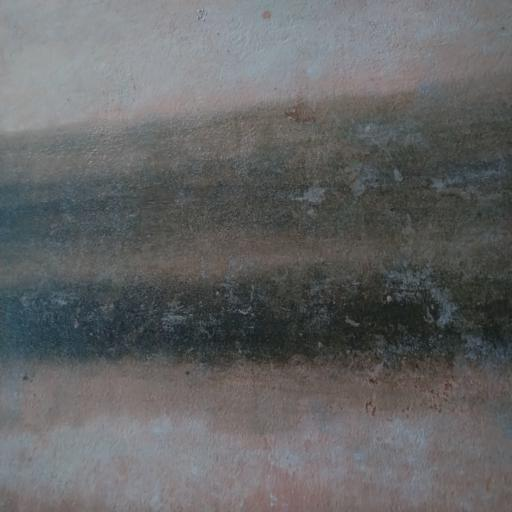algae: (0, 84, 512, 433)
